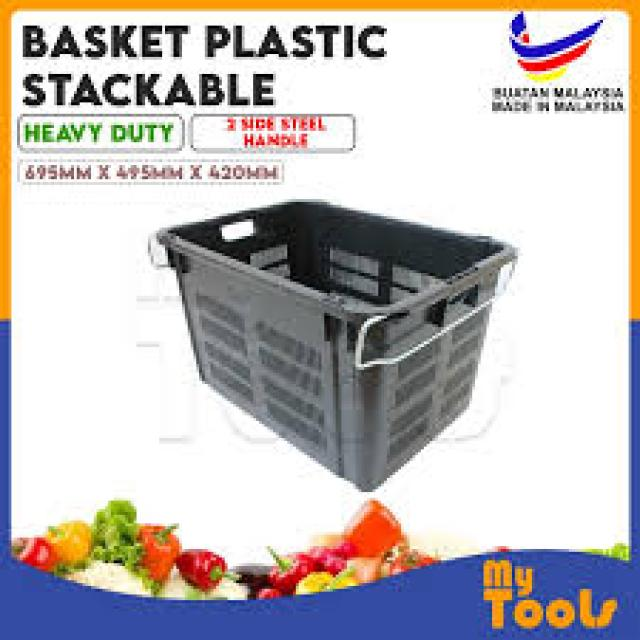basket: (105, 143, 519, 510)
